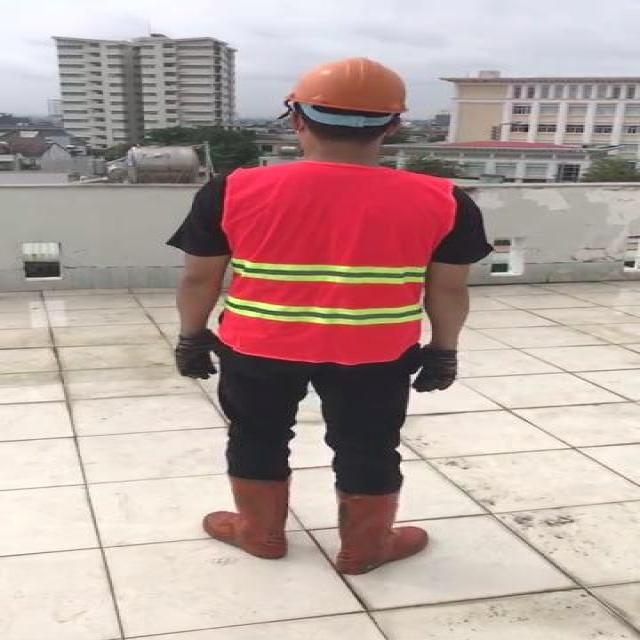boots: (334, 485, 428, 575), (201, 476, 291, 560)
hand_glove: (171, 332, 224, 378), (414, 348, 459, 393)
head_helmet: (288, 54, 412, 120)
person: (159, 47, 497, 576)
vest: (217, 162, 453, 361)
